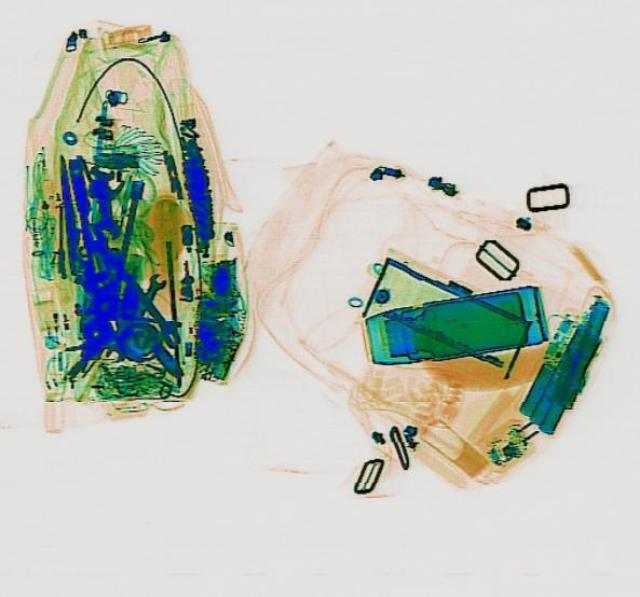Wrench: (77, 224, 189, 349), (111, 270, 167, 335)
